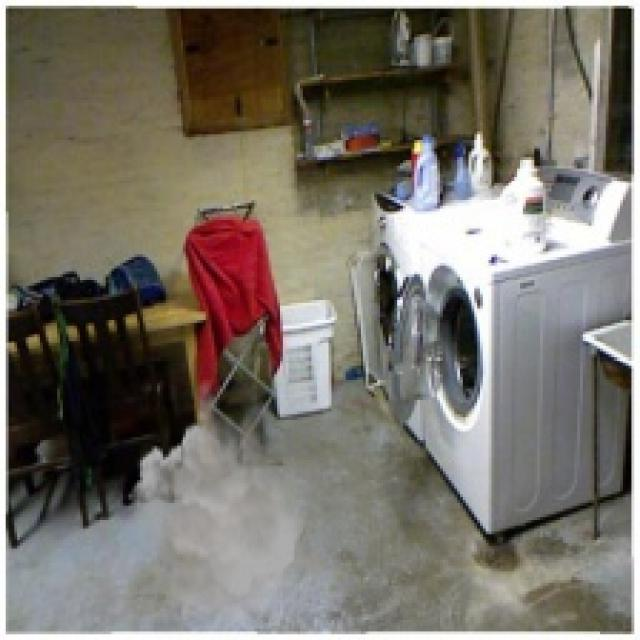smoke: (128, 374, 332, 632)
